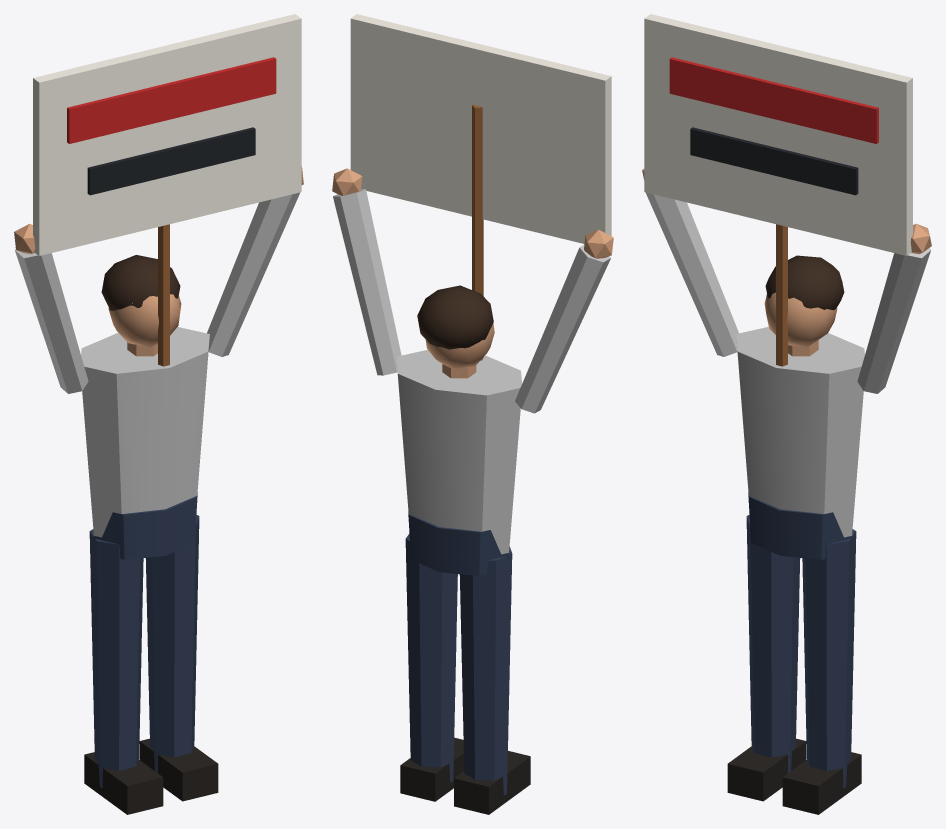
Rendered from person_c.fbx.
3 renders of one model, left to right at view 1: azimuth 30°, elevation 25°; view 2: azimuth 150°, elevation 25°; view 3: azimuth 330°, elevation 25°, orthographic. The views are drawn at different scales.
Visible parts, largest first — view 1: person_c; view 2: person_c; view 3: person_c.
Boxes of the visible parts, <box> form: person_c: <box>14,14,303,814</box>; person_c: <box>332,14,613,814</box>; person_c: <box>642,14,931,814</box>.
Bounding box in the file's own units: 1.04 × 2.6 × 0.332.
